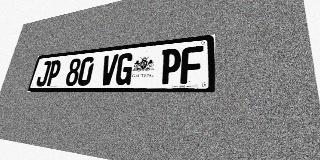0: (76, 56, 95, 86)
8: (64, 58, 82, 86)
F: (180, 46, 203, 84)
G: (114, 52, 134, 85)
J: (35, 61, 52, 86)
P: (159, 48, 182, 84), (45, 60, 62, 86)
V: (99, 54, 119, 85)
